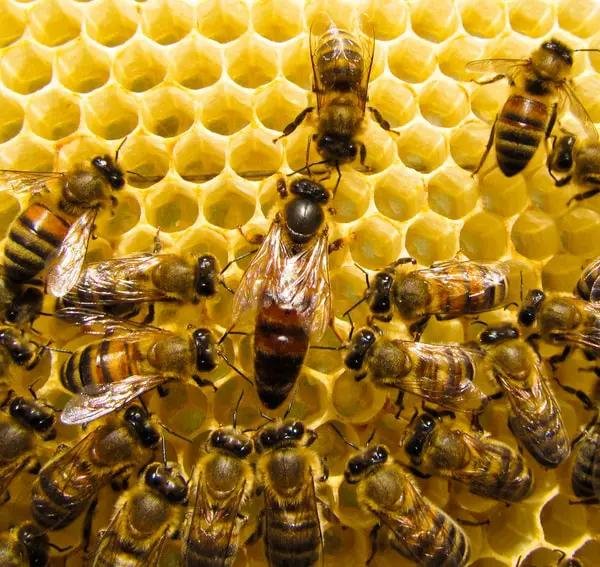Queen-Bee: (228, 176, 336, 408)
worker-bee: (60, 309, 223, 423), (0, 155, 124, 296), (467, 38, 593, 176), (30, 404, 160, 529), (309, 12, 397, 192), (344, 445, 469, 566), (346, 257, 509, 339), (341, 326, 487, 416), (479, 324, 570, 467), (401, 406, 533, 502), (59, 251, 230, 322), (182, 406, 253, 566), (87, 461, 188, 566), (255, 420, 327, 566), (519, 290, 599, 355), (547, 132, 599, 205), (570, 414, 599, 504)
